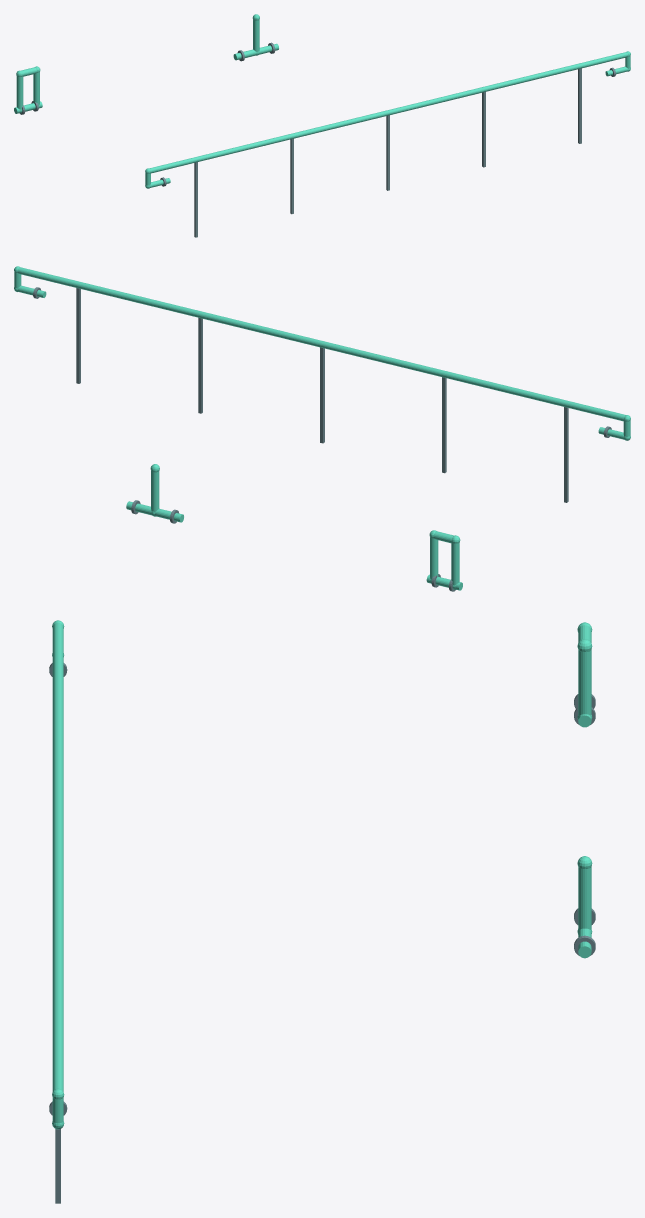
The picture shows the model from 3 angles, top to bottom: view 1: azimuth 30°, elevation 25°; view 2: azimuth 150°, elevation 25°; view 3: azimuth 270°, elevation 25°; orthographic projection. The views are drawn at different scales.
Visible parts, largest first — view 1: render-batch-0, render-batch-1; view 2: render-batch-0, render-batch-1; view 3: render-batch-0, render-batch-1.
Boxes of the visible parts, x1,y1,x2,y2 form: render-batch-0: (14, 14, 630, 188); render-batch-1: (20, 42, 615, 237); render-batch-0: (14, 266, 630, 590); render-batch-1: (33, 287, 611, 591); render-batch-0: (52, 620, 592, 1129); render-batch-1: (49, 663, 595, 1203).
Bounding box in the file's own units: 28.71 × 4.56 × 14.01.
